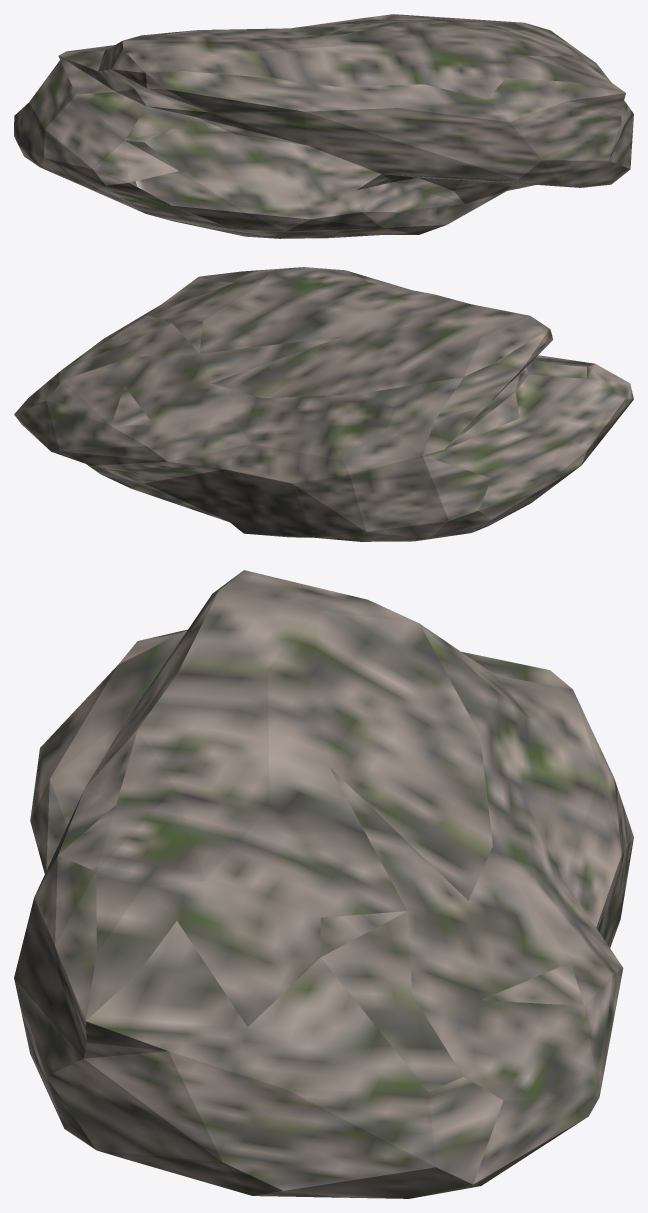
The model's file is PedraMediaVarA.obj.
The picture shows the model from 3 angles, top to bottom: view 1: azimuth 30°, elevation 25°; view 2: azimuth 150°, elevation 25°; view 3: azimuth 270°, elevation 25°; orthographic projection. The views are drawn at different scales.
Visible parts, largest first — view 1: rock.003; view 2: rock.003; view 3: rock.003.
Part boxes in pixels (bbox=[...]): rock.003: bbox=[14, 14, 633, 238]; rock.003: bbox=[14, 267, 633, 541]; rock.003: bbox=[14, 570, 633, 1198].
Size of the model in its own units: 4.47 by 1.58 by 2.76.
